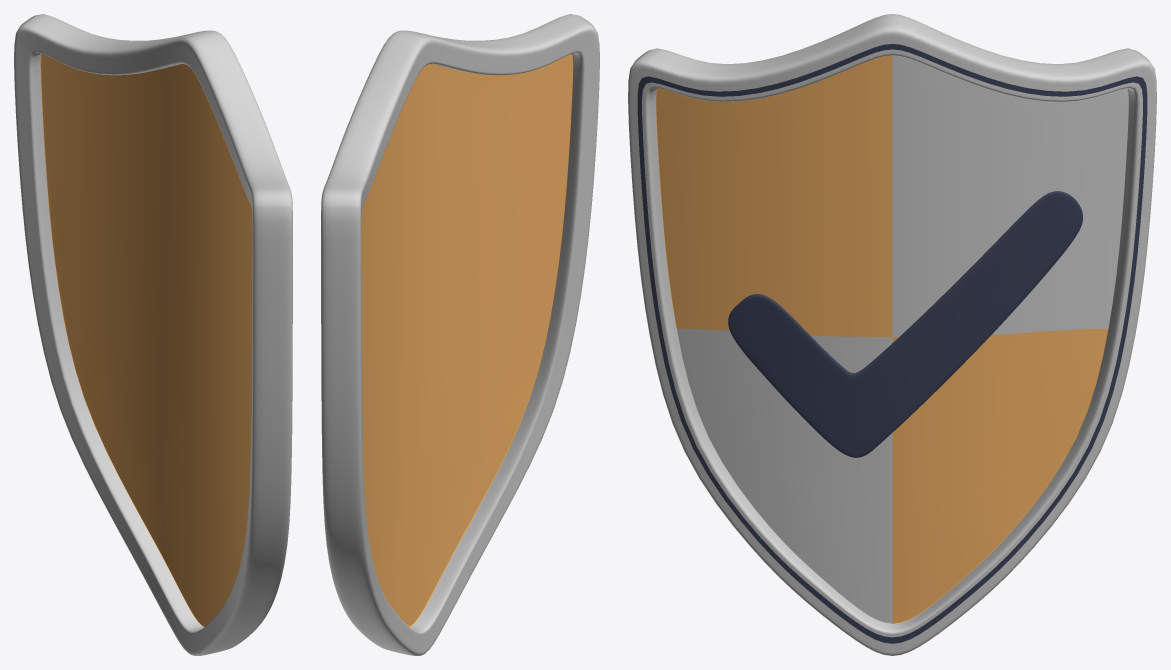
Rendered from Shield.glb.
3 views of the same model, side by side, from view 1: azimuth 30°, elevation 25°; view 2: azimuth 150°, elevation 25°; view 3: azimuth 270°, elevation 25° (orthographic). The views are drawn at different scales.
Visible parts, largest first — view 1: Shield.001; view 2: Shield.001; view 3: Shield.001.
Part boxes in pixels (box(x1,y1,x2,y2)): Shield.001: box(14, 14, 292, 655); Shield.001: box(321, 14, 599, 655); Shield.001: box(628, 14, 1156, 655).
Bounding box in the file's own units: 0.8616 × 5.75 × 4.38.
